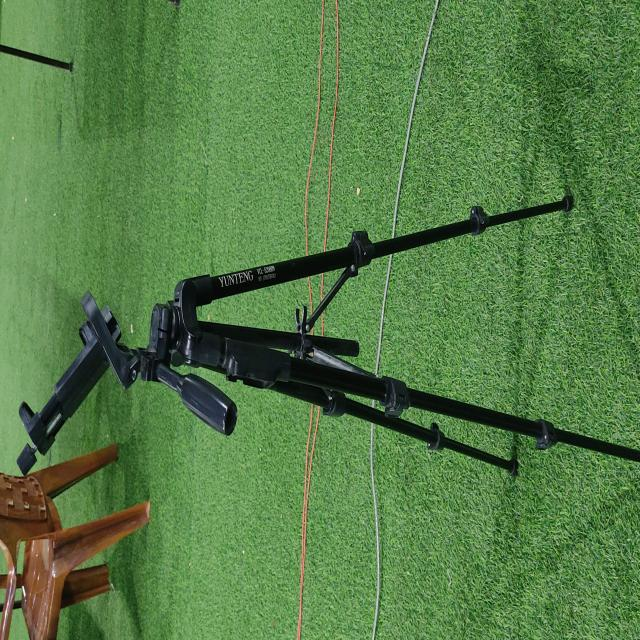Chair: (0, 443, 150, 639)
